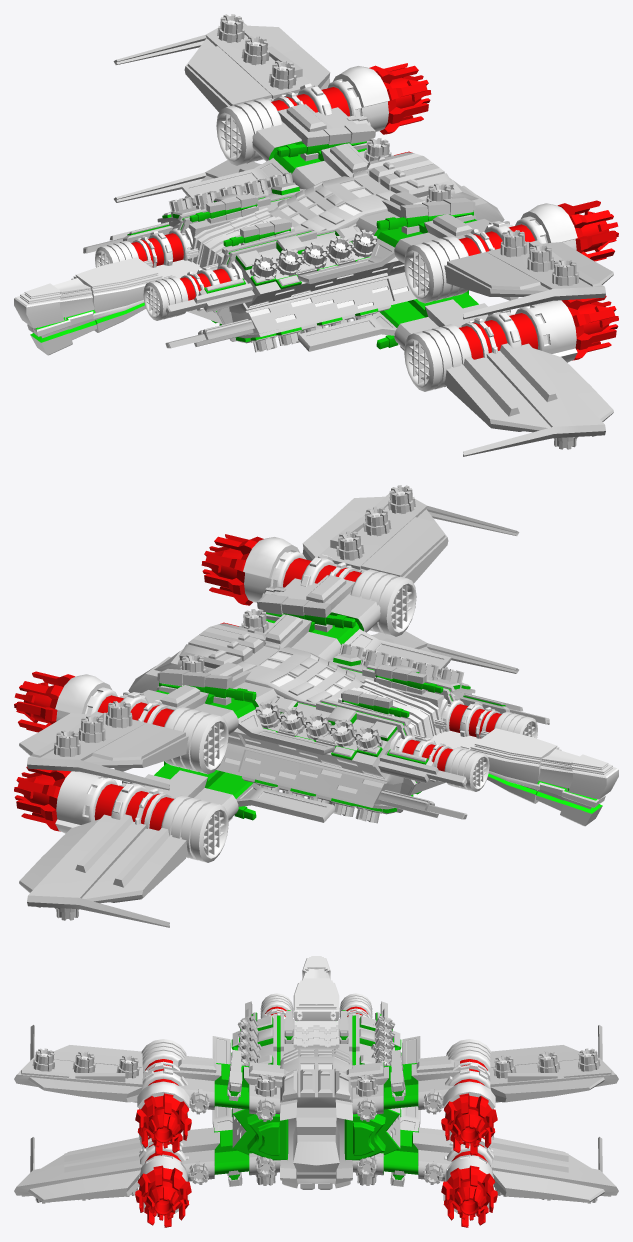
Rendered from Water-SHip_model.fbx.
The picture shows the model from 3 angles, top to bottom: view 1: azimuth 30°, elevation 25°; view 2: azimuth 150°, elevation 25°; view 3: azimuth 270°, elevation 25°; orthographic projection. The views are drawn at different scales.
Visible parts, largest first — view 1: Wings, Engines back, Storage, Front, Cube, Hull, Engines, Stabilisers, Cannons_back, Cannons, Stabilisers.001, Stabilisers.003 (+3 smaller); view 2: Wings, Engines back, Storage, Front, Cube, Hull, Engines, Stabilisers, Cannons_back, Cannons, Stabilisers.001, Stabilisers.003 (+3 smaller); view 3: Wings, Engines back, Storage, Cube, Back, Hull, Front, Stabilisers, Cannons_back, Stabilisers.006, Stabilisers.005, Engines (+5 smaller).
Boxes of the visible parts, box(x1,y1,x2,y2) form: Wings: box(113, 25, 613, 456); Engines back: box(216, 63, 618, 391); Storage: box(83, 183, 416, 348); Front: box(14, 207, 294, 355); Cube: box(187, 22, 600, 436); Hull: box(269, 152, 453, 231); Engines: box(95, 223, 243, 320); Stabilisers: box(169, 172, 377, 352); Cannons_back: box(277, 123, 476, 350); Cannons: box(189, 193, 292, 246); Stabilisers.001: box(217, 14, 578, 449); Stabilisers.003: box(268, 60, 527, 257); Wings: box(19, 496, 519, 927); Engines back: box(14, 534, 416, 862); Storage: box(216, 654, 549, 819); Front: box(338, 678, 618, 826); Cube: box(32, 493, 445, 907); Hull: box(179, 623, 363, 702); Engines: box(389, 694, 537, 791); Stabilisers: box(255, 643, 463, 823); Cannons_back: box(156, 594, 355, 821); Cannons: box(340, 664, 443, 717); Stabilisers.001: box(54, 485, 415, 920); Stabilisers.003: box(105, 531, 364, 728); Wings: box(14, 1025, 618, 1202); Engines back: box(135, 1039, 497, 1227); Storage: box(231, 1001, 401, 1160); Cube: box(21, 1045, 611, 1196); Back: box(280, 1086, 352, 1183); Hull: box(280, 1047, 352, 1189); Front: box(293, 956, 339, 1048); Stabilisers: box(237, 1016, 395, 1066); Cannons_back: box(227, 1047, 405, 1186); Stabilisers.006: box(188, 1089, 444, 1184); Stabilisers.005: box(255, 1098, 377, 1177); Engines: box(260, 993, 372, 1018).
Bounding box in the file's own units: 1749 × 2258 × 613.
